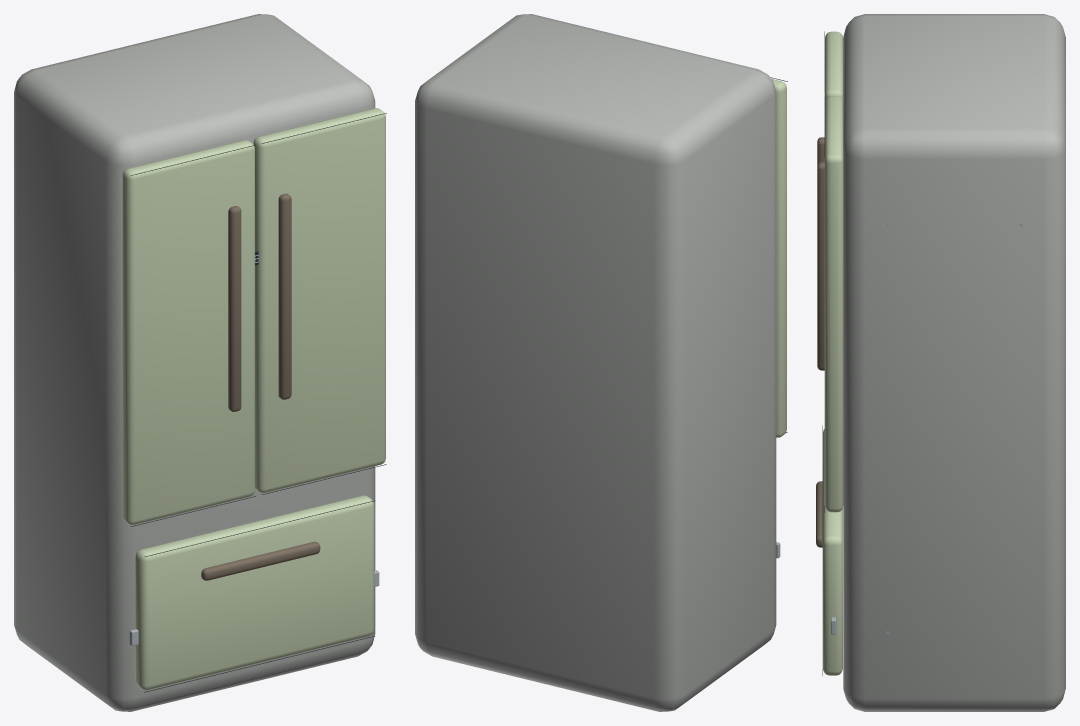
Rendered from refrigerator.glb.
The picture shows the model from 3 angles, left to right: view 1: azimuth 30°, elevation 25°; view 2: azimuth 150°, elevation 25°; view 3: azimuth 270°, elevation 25°; orthographic projection.
Visible parts, largest first — view 1: refrigerator; view 2: refrigerator; view 3: refrigerator.
Part boxes in pixels (box(x1,y1,x2,y2)): refrigerator: box(14, 14, 386, 711); refrigerator: box(415, 14, 787, 711); refrigerator: box(816, 14, 1065, 711).
Bounding box in the file's own units: 0.9 × 1.85 × 0.72.
